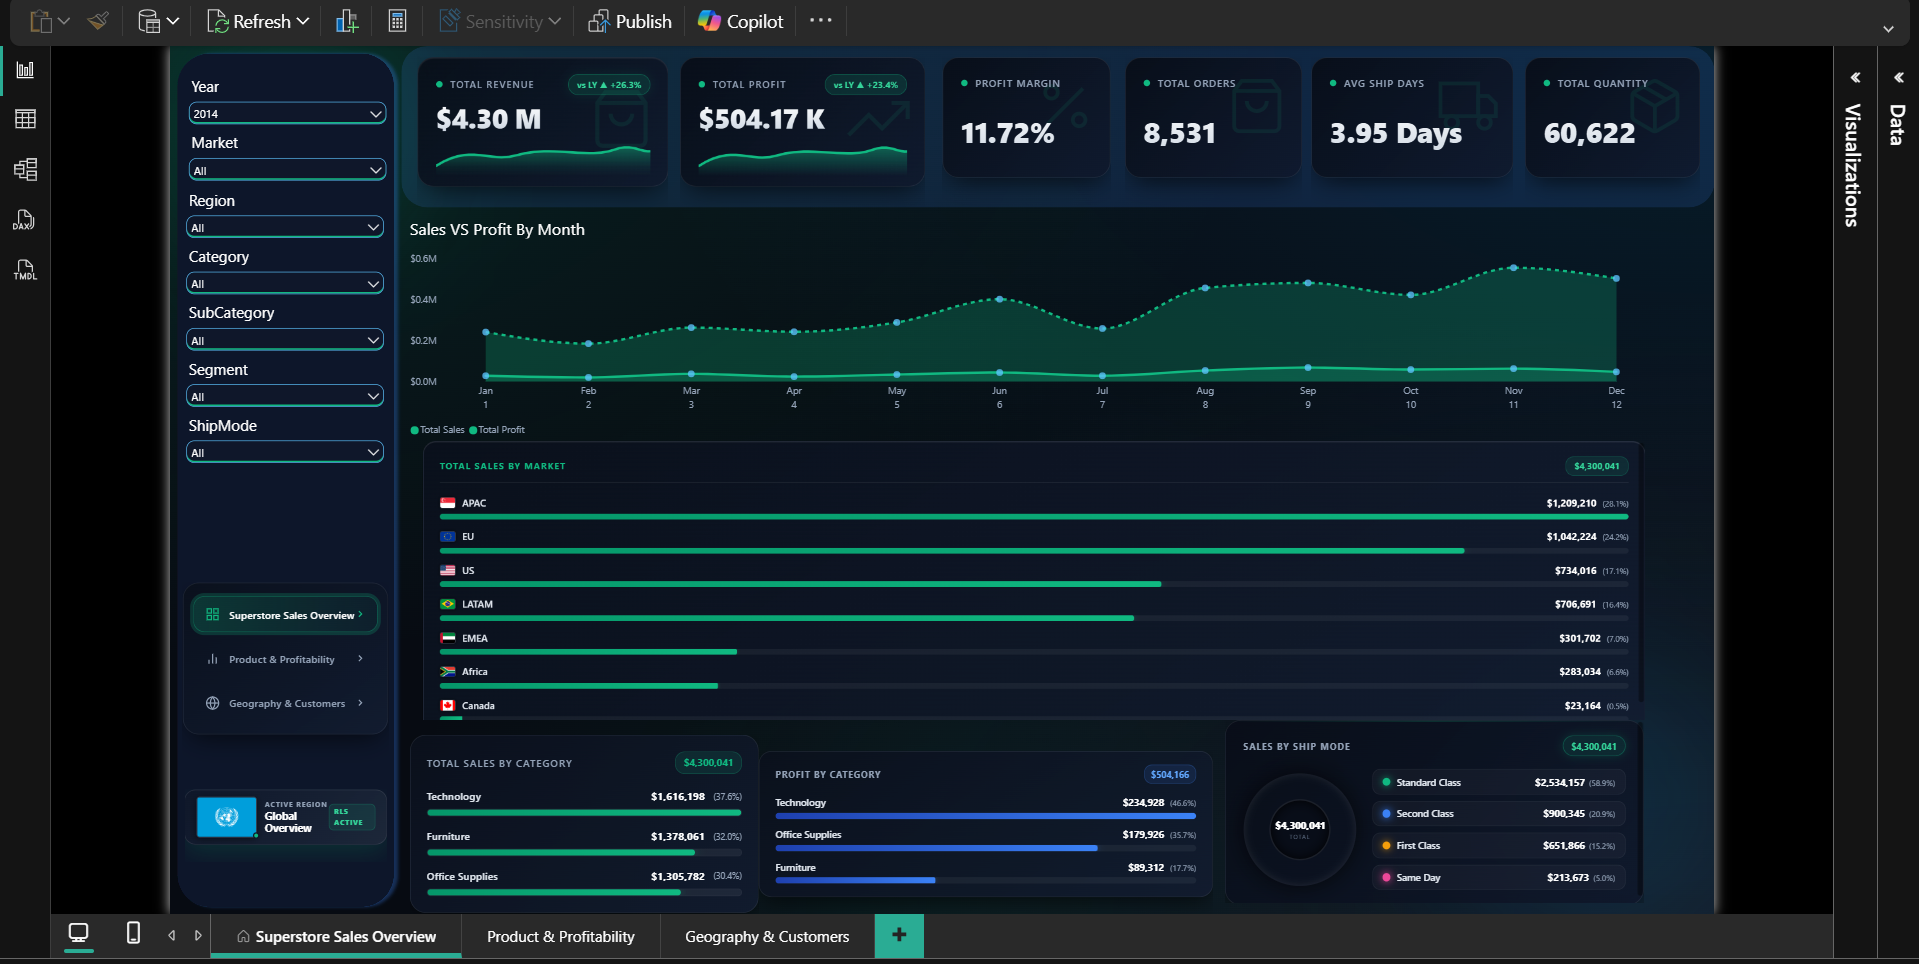

The dashboard page shown, as its layout file describes it:
{"tool":"powerbi","page":{"name":"Superstore Sales Overview","canvas":[1920,1080],"ordinal":0},"visuals":[{"type":"cardVisual","fields":{"Data":["dw FactSales.Total Sales"]},"box":[304.2,14.4,291.8,187.3],"z":0},{"type":"lineChart","fields":{"Y":["dw FactSales.Total Sales"],"Category":["dw DimDate.Month"]},"box":[270,108,325.8,79.2],"z":1000},{"type":"cardVisual","fields":{"Data":["dw FactSales.Total Profit"]},"box":[620.9,14.4,291.8,187.3],"z":2000},{"type":"lineChart","fields":{"Y":["dw FactSales.Total Profit"],"Category":["dw DimDate.Month"]},"box":[595.7,108,316.8,79.2],"z":3000},{"type":"cardVisual","fields":{"Data":["dw FactSales.Profit Margin %"]},"box":[939.5,14.4,291.8,187.3],"z":4000},{"type":"cardVisual","fields":{"Data":["dw FactSales.Orders"]},"box":[1279.6,14.4,291.8,187.3],"z":5000},{"type":"cardVisual","fields":{"Data":["dw FactSales.Total Quantity"]},"box":[1607.2,14.4,291.8,187.3],"z":6000},{"type":"lineChart","title":" Sales VS Profit By Month","fields":{"Category":["dw DimDate.Month"],"Y":["dw FactSales.Total Sales"],"Y2":["dw FactSales.Total Profit"]},"box":[304.2,214.2,1591,430.1],"z":7000},{"type":"barChart","fields":{"Y":["dw FactSales.Total Sales"],"Category":["dw DimGeography.Market"]},"box":[1106.9,644.3,813.5,232.2],"z":8000},{"type":"shape","box":[0,0,288,1079.9],"z":9000},{"type":"slicer","fields":{"Values":["dw DimDate.Year"]},"box":[18,37.8,255.6,70.2],"z":10000},{"type":"slicer","fields":{"Values":["dw DimGeography.Market"]},"box":[18,108,255.6,70.2],"z":11000},{"type":"slicer","fields":{"Values":["dw DimGeography.Region"]},"box":[16.2,178.2,255.6,70.2],"z":12000},{"type":"slicer","fields":{"Values":["dw DimProduct.Category"]},"box":[16.2,248.4,255.6,70.2],"z":13000},{"type":"slicer","fields":{"Values":["dw DimProduct.SubCategory"]},"box":[16.2,318.6,255.6,70.2],"z":14000},{"type":"slicer","fields":{"Values":["dw DimCustomer.Segment"]},"box":[16.2,388.8,255.6,70.2],"z":15000},{"type":"slicer","fields":{"Values":["dw DimShipping.ShipMode"]},"box":[16.2,458.9,255.6,66.6],"z":16000},{"type":"barChart","fields":{"Category":["dw DimProduct.Category"],"Y":["dw FactSales.Total Profit"]},"box":[271.8,876.5,813.5,203.4],"z":17000},{"type":"barChart","fields":{"Y":["dw FactSales.Total Sales"],"Category":["dw DimProduct.Category"]},"box":[271.8,646.1,813.5,232.2],"z":18000},{"type":"lineStackedColumnComboChart","fields":{"Category":["dw DimShipping.ShipMode"],"Y":["dw FactSales.Total Sales"]},"box":[1085.3,863.9,813.5,216],"z":19000},{"type":"pageNavigator","box":[17,590.4,253.5,238.2],"z":20000}]}

Visuals, with their boxes on the page's 1920x1080 design canvas (x1, y1, x2, y2). These are canvas units, not pixel positions in the 1919x964 screenshot, which may show the page scaled, cropped or inside an application window:
cardVisual - dw FactSales.Total Sales: [304, 14, 596, 202]
lineChart - dw FactSales.Total Sales x dw DimDate.Month: [270, 108, 596, 187]
cardVisual - dw FactSales.Total Profit: [621, 14, 913, 202]
lineChart - dw FactSales.Total Profit x dw DimDate.Month: [596, 108, 912, 187]
cardVisual - dw FactSales.Profit Margin %: [940, 14, 1231, 202]
cardVisual - dw FactSales.Orders: [1280, 14, 1571, 202]
cardVisual - dw FactSales.Total Quantity: [1607, 14, 1899, 202]
" Sales VS Profit By Month" lineChart: [304, 214, 1895, 644]
barChart - dw FactSales.Total Sales x dw DimGeography.Market: [1107, 644, 1920, 876]
shape: [0, 0, 288, 1080]
slicer - dw DimDate.Year: [18, 38, 274, 108]
slicer - dw DimGeography.Market: [18, 108, 274, 178]
slicer - dw DimGeography.Region: [16, 178, 272, 248]
slicer - dw DimProduct.Category: [16, 248, 272, 319]
slicer - dw DimProduct.SubCategory: [16, 319, 272, 389]
slicer - dw DimCustomer.Segment: [16, 389, 272, 459]
slicer - dw DimShipping.ShipMode: [16, 459, 272, 526]
barChart - dw DimProduct.Category x dw FactSales.Total Profit: [272, 876, 1085, 1080]
barChart - dw FactSales.Total Sales x dw DimProduct.Category: [272, 646, 1085, 878]
lineStackedColumnComboChart - dw DimShipping.ShipMode x dw FactSales.Total Sales: [1085, 864, 1899, 1080]
pageNavigator: [17, 590, 270, 829]
